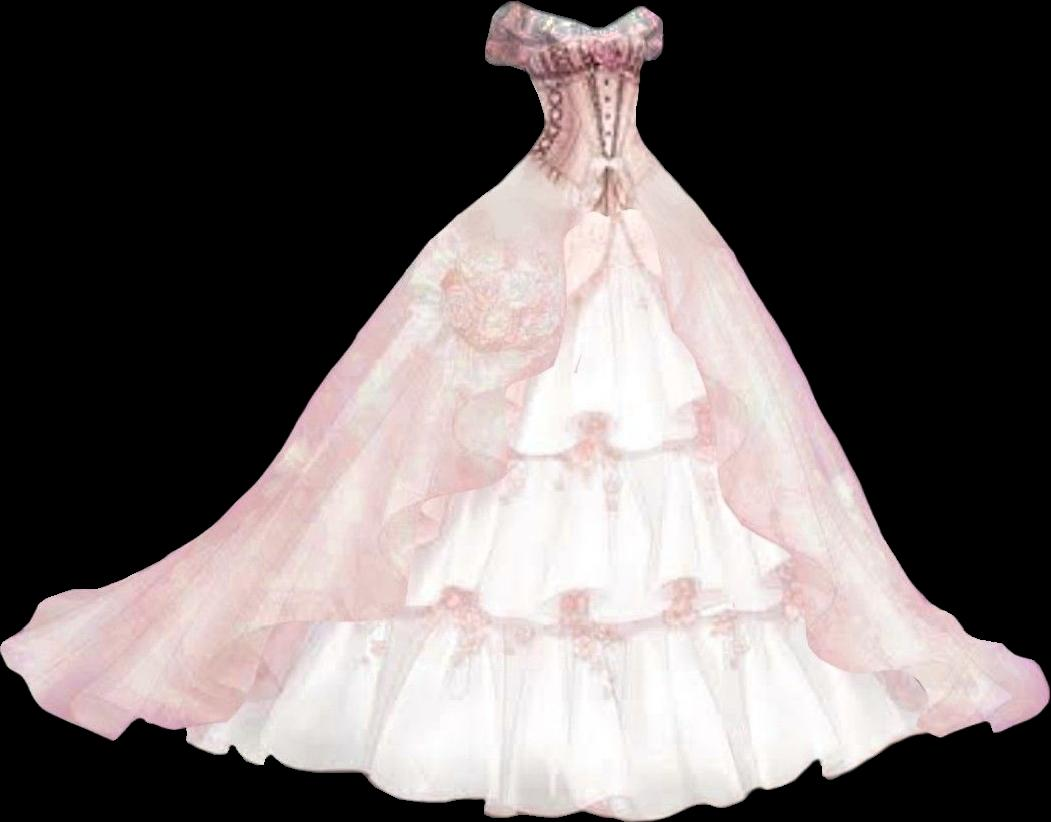Bodice: (485, 0, 663, 224)
Hemline: (0, 224, 624, 741), (613, 213, 1045, 736), (1, 639, 1050, 821), (398, 558, 793, 627), (508, 390, 714, 459)
Neckline: (506, 0, 644, 38), (602, 76, 633, 210), (584, 69, 608, 214), (531, 58, 640, 86)
Skirt: (0, 160, 1049, 820)
Waistline: (520, 155, 663, 230)
